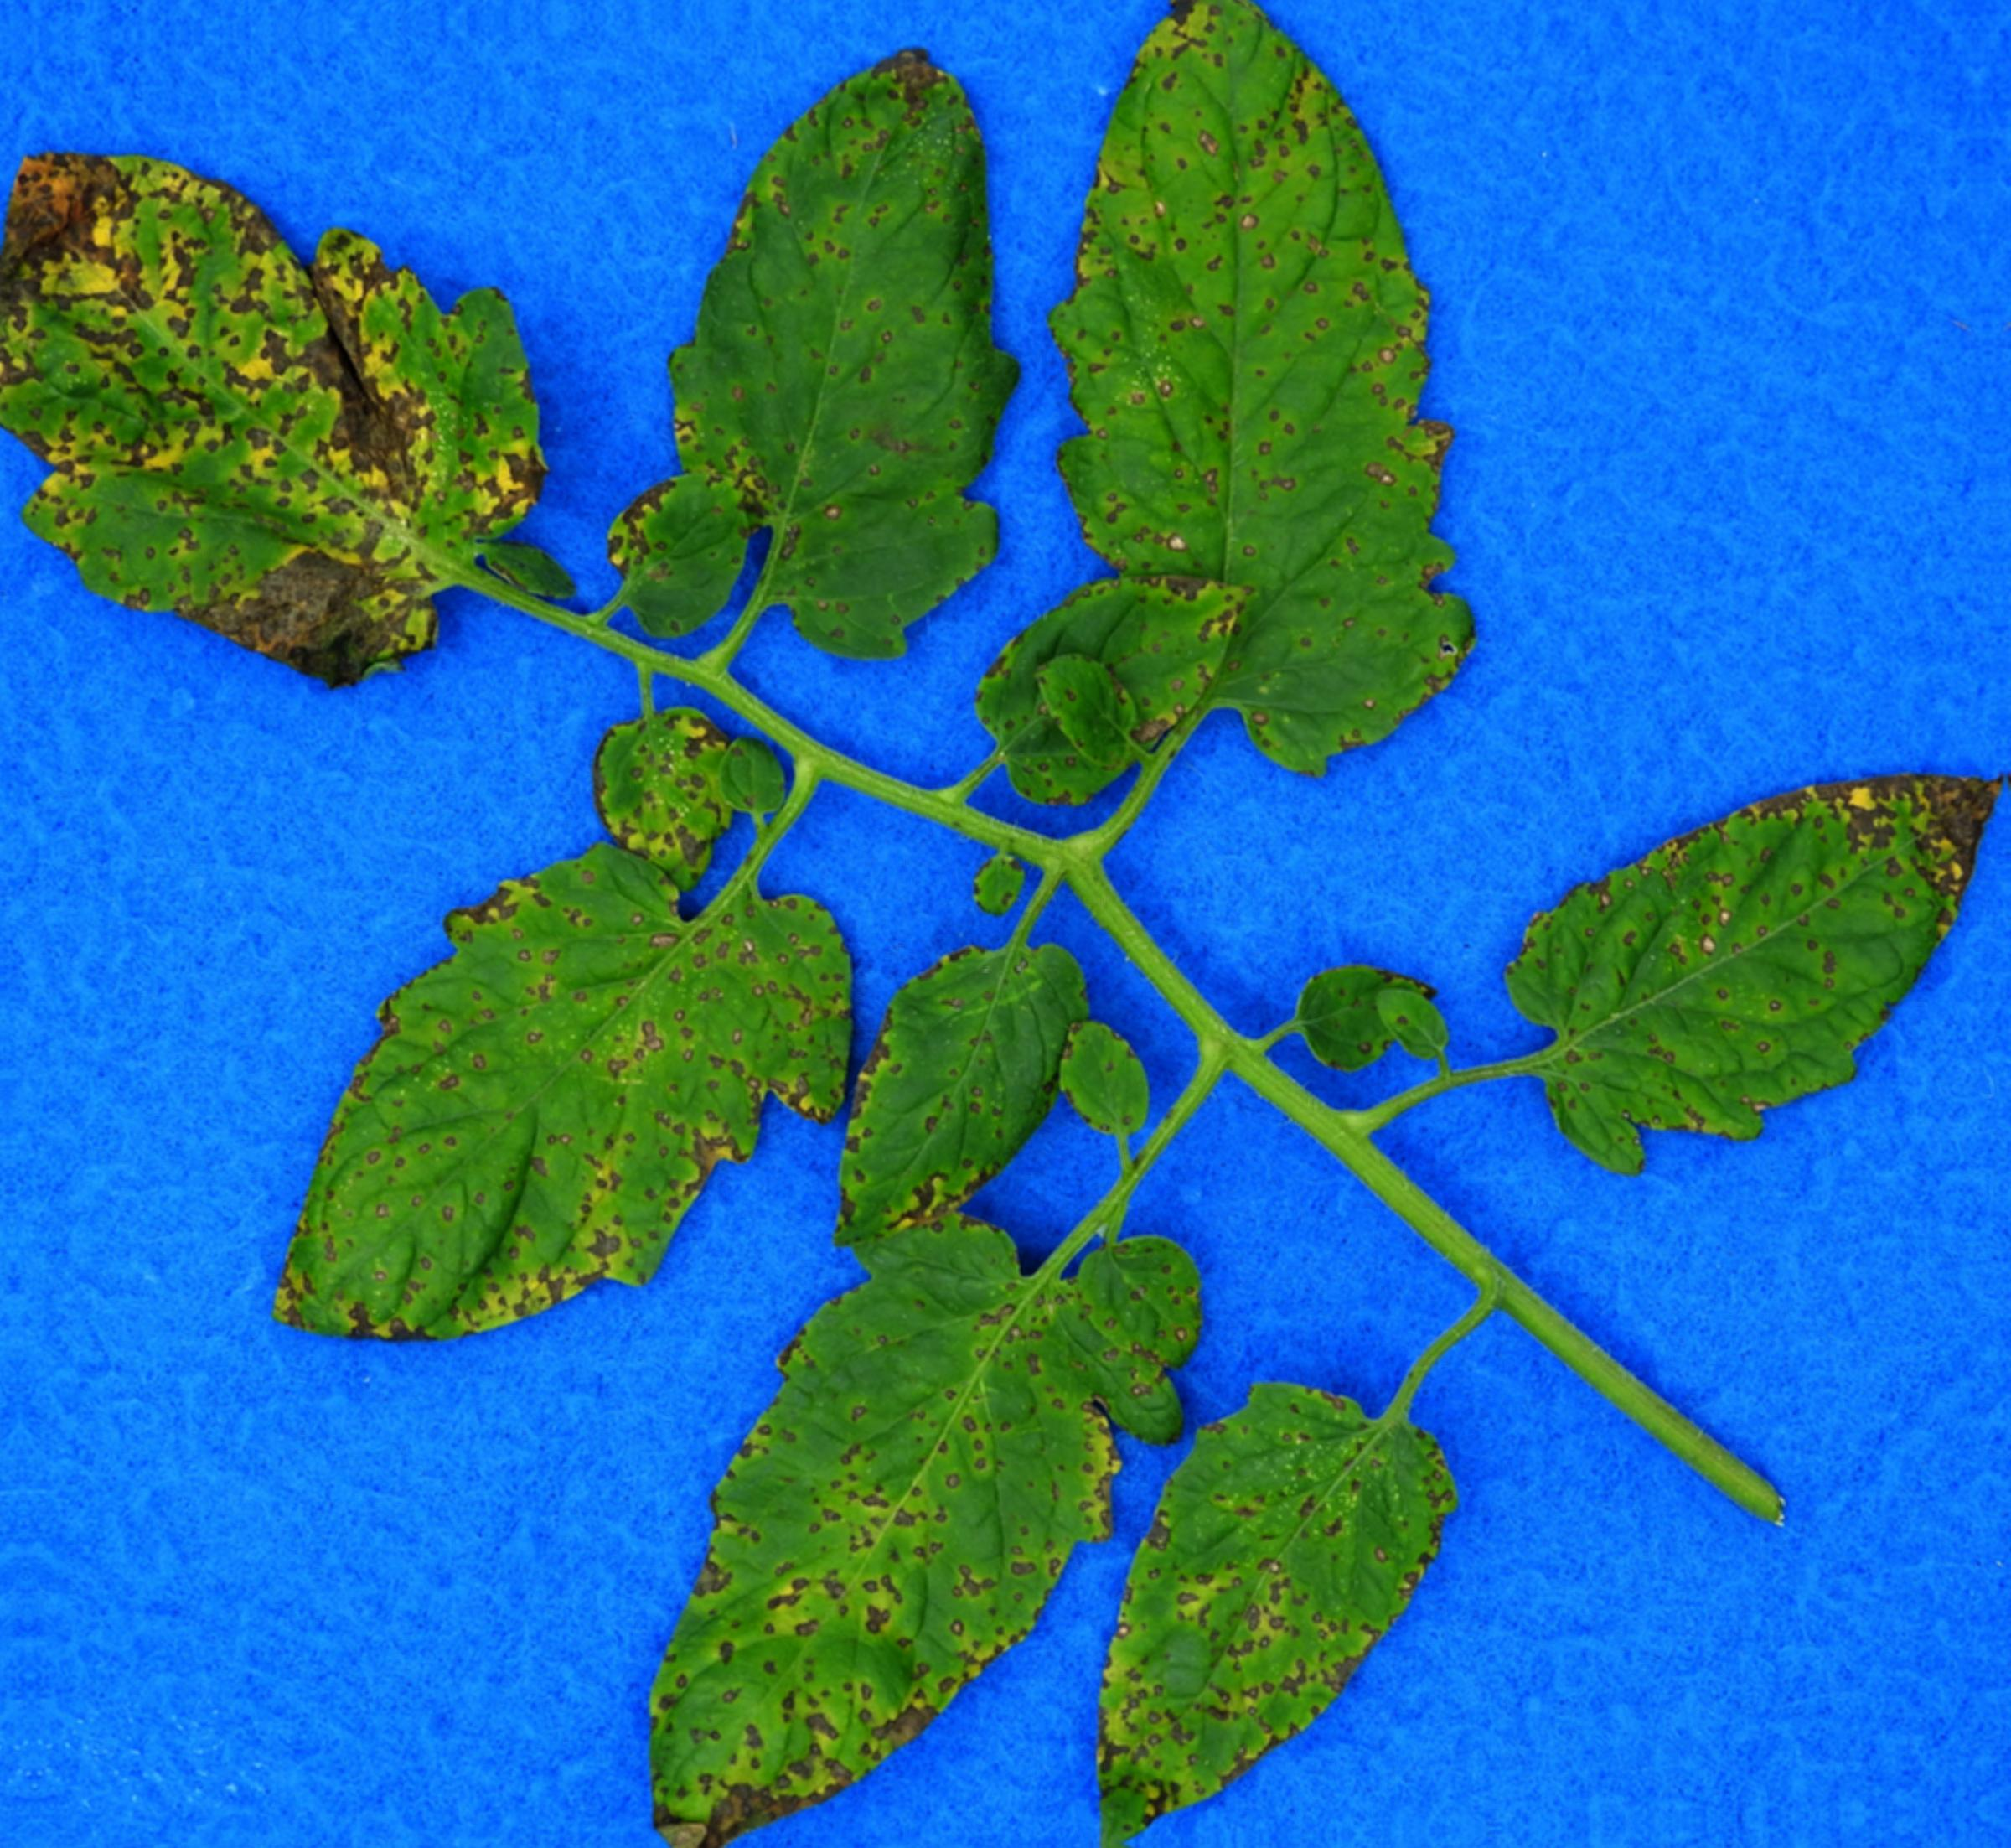Tomato Septoria leaf spot: (1009, 0, 1491, 899), (620, 1167, 1189, 1848), (0, 86, 578, 741), (526, 9, 1063, 680), (256, 825, 874, 1368), (1484, 715, 1999, 1212), (1056, 1340, 1485, 1841), (809, 921, 1095, 1249), (923, 557, 1265, 820)
